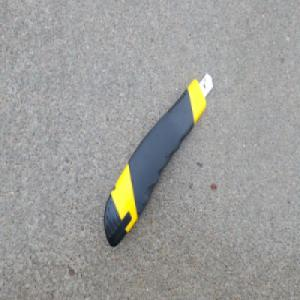Cutter: (103, 72, 213, 249)
